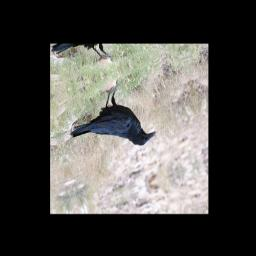Crow: (62, 72, 158, 173)
